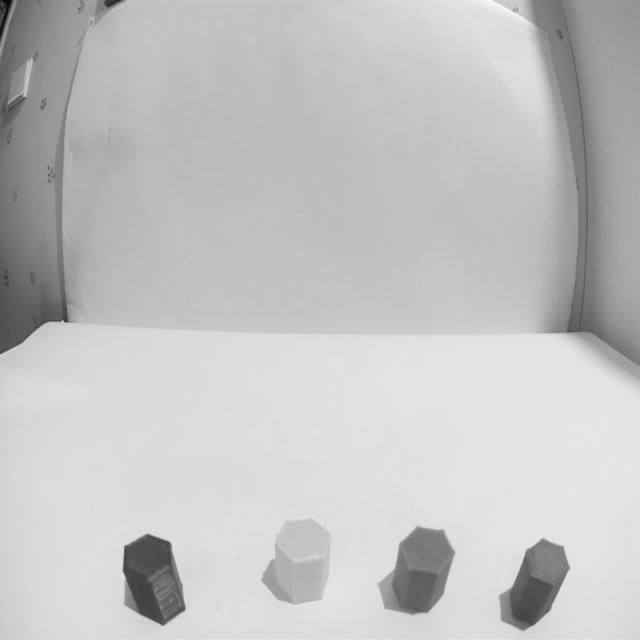hexagon: (118, 530, 190, 630), (389, 522, 458, 618), (506, 534, 573, 632), (272, 513, 333, 607)
